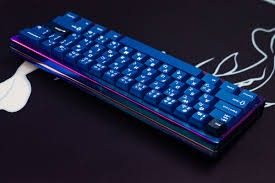keyboard: (0, 5, 275, 168)
